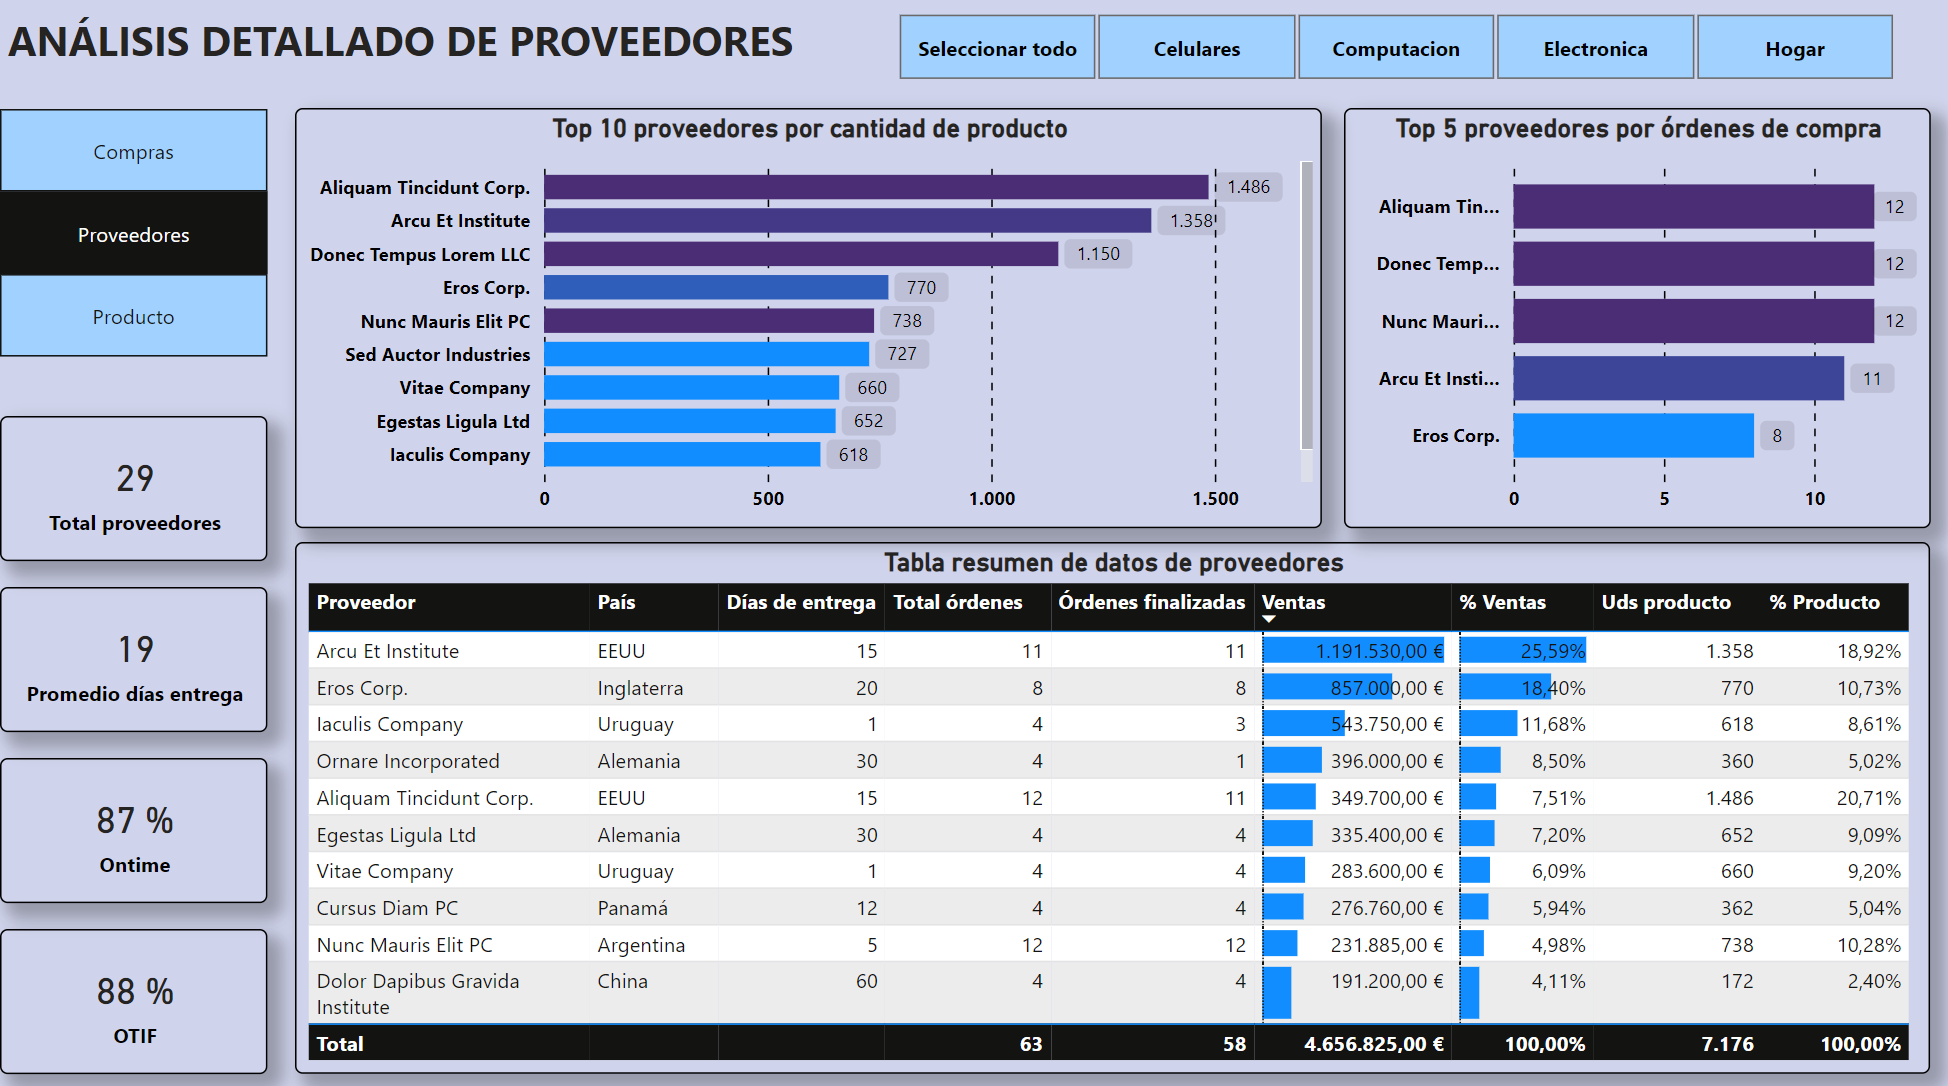

This screenshot's page, from the dashboard's own definition file:
{"tool":"powerbi","page":{"name":"Proveedores","canvas":[1280,720],"ordinal":1},"visuals":[{"type":"card","fields":{"Values":["Dax Medidas.Total proveedores"]},"box":[0,277.6,174.7,95.1],"z":0},{"type":"card","fields":{"Values":["Avg(Proveedores.tmp_entrega)"]},"box":[0,389.4,174.7,95.1],"z":1000},{"type":"card","fields":{"Values":["Dax Medidas.Ontime"]},"box":[0,501.2,174.7,95.1],"z":2000},{"type":"card","fields":{"Values":["Dax Medidas.OTIF"]},"box":[0,613,175,95],"z":3000},{"type":"tableEx","title":"Tabla resumen de datos de proveedores","fields":{"Values":["Proveedores.nom_prov","Proveedores.org_pais","Proveedores.tmp_entrega","Dax Medidas.Total ordenes de compra","Dax Medidas.Total ordenes de compra finalizadas","Dax Medidas.Total cantidad vendida","Divide(Dax Medidas.Total cantidad vendida, ScopedEval(Dax Medidas.Total cantidad vendida, []))","Dax Medidas.Total cantidad producto","Divide(Dax Medidas.Total cantidad producto, ScopedEval(Dax Medidas.Total cantidad producto, []))"]},"box":[193.3,360,1069.9,348.1],"z":4000},{"type":"barChart","title":"Top 10 proveedores por cantidad de producto ","fields":{"Category":["Proveedores.nom_prov"],"Y":["Dax Medidas.Total cantidad producto"]},"box":[193.3,76,672.4,274.8],"z":5000},{"type":"clusteredBarChart","title":"Top 5 proveedores por órdenes de compra","fields":{"Y":["Dax Medidas.Total ordenes de compra"],"Category":["Proveedores.nom_prov"]},"box":[879.4,76,383.8,274.8],"z":6000},{"type":"pageNavigator","box":[0,76.3,175.9,164.8],"z":7000},{"type":"slicer","fields":{"Values":["Productos.Categoria"]},"box":[562.9,7.7,700.1,56.4],"z":8000},{"type":"textbox","box":[0,7.7,545.3,55],"z":9000}]}

Visuals, with their boxes in screenshot pixels (x1, y1, x2, y2), scaled from the page's 1280x720 canvas onto the 1948x1086 screenshot:
card - Dax Medidas.Total proveedores: (0,419,266,562)
card - Avg(Proveedores.tmp_entrega): (0,587,266,731)
card - Dax Medidas.Ontime: (0,756,266,899)
card - Dax Medidas.OTIF: (0,925,266,1068)
"Tabla resumen de datos de proveedores" tableEx: (294,543,1922,1068)
"Top 10 proveedores por cantidad de producto " barChart: (294,115,1317,529)
"Top 5 proveedores por órdenes de compra" clusteredBarChart: (1338,115,1922,529)
pageNavigator: (0,115,268,364)
slicer - Productos.Categoria: (857,12,1922,97)
textbox: (0,12,830,95)
